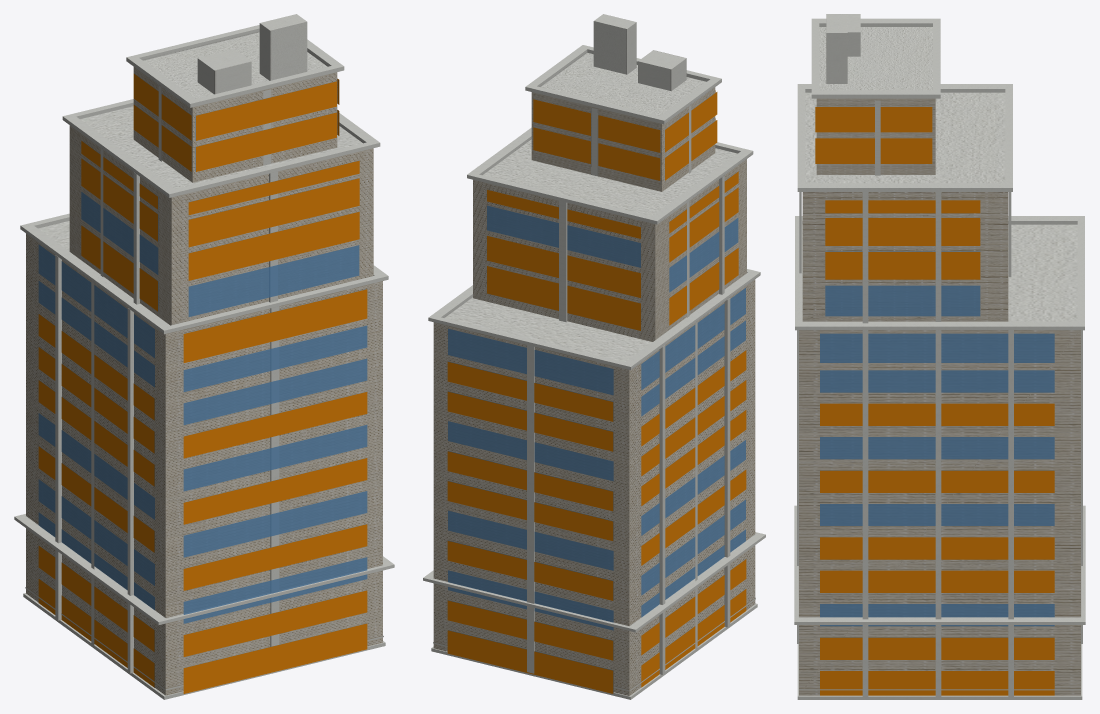
Rendered from House_6.fbx.
3 renders of one model, left to right at view 1: azimuth 30°, elevation 25°; view 2: azimuth 150°, elevation 25°; view 3: azimuth 270°, elevation 25°, orthographic. The views are drawn at different scales.
Parts seen in each view (by area): view 1: House_6, GlassLighted, Glass; view 2: House_6, GlassLighted, Glass; view 3: House_6, GlassLighted, Glass.
Part boxes in pixels (left/top/right/bottom): House_6: left=14, top=14, right=394, bottom=699; GlassLighted: left=38, top=73, right=367, bottom=693; Glass: left=38, top=73, right=367, bottom=687; House_6: left=423, top=14, right=765, bottom=699; GlassLighted: left=447, top=90, right=746, bottom=693; Glass: left=448, top=92, right=745, bottom=692; House_6: left=794, top=14, right=1085, bottom=699; GlassLighted: left=815, top=107, right=1054, bottom=695; Glass: left=820, top=251, right=1054, bottom=637.
Size of the model in its own units: 98.45 by 251 by 104.
